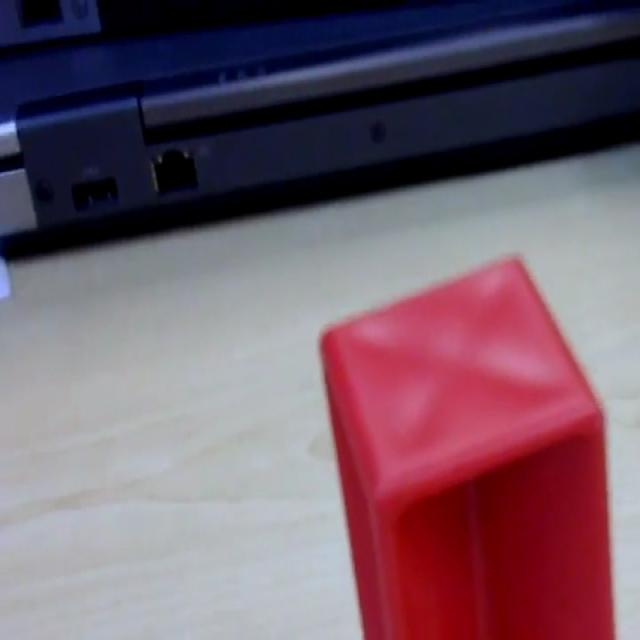red_block: (317, 252, 617, 636)
